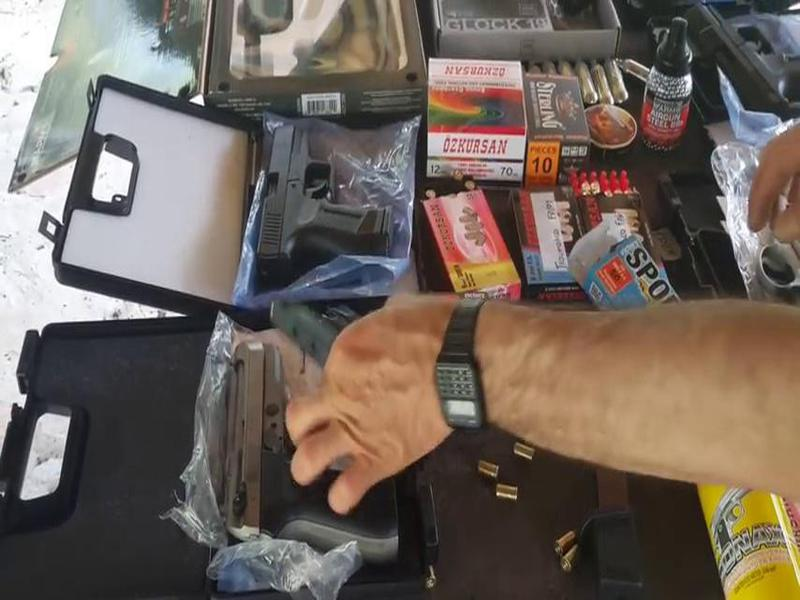Pistola: (201, 321, 403, 564), (256, 117, 410, 286)
